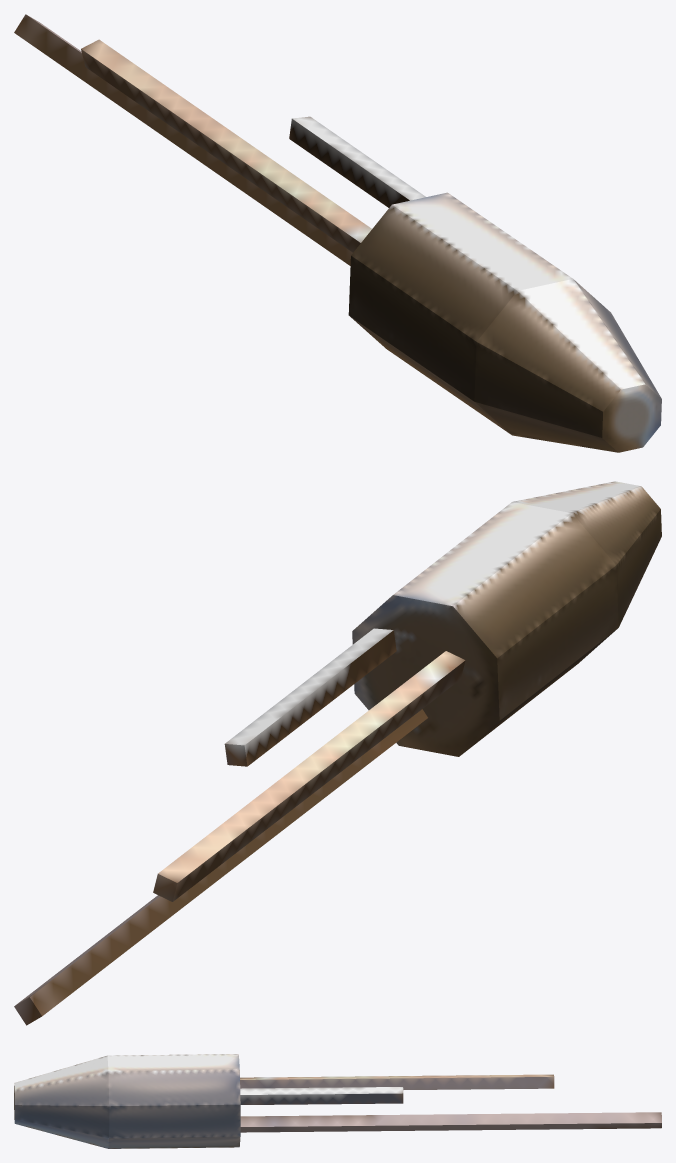
The picture shows the model from 3 angles, top to bottom: view 1: azimuth 30°, elevation 25°; view 2: azimuth 150°, elevation 25°; view 3: azimuth 270°, elevation 25°; orthographic projection. The views are drawn at different scales.
Parts seen in each view (by area): view 1: Bala_Cylinder.003, Estela_3_Cube.008, Estela_1_Cube.006, Estela_2_Cube.007; view 2: Bala_Cylinder.003, Estela_3_Cube.008, Estela_1_Cube.006, Estela_2_Cube.007; view 3: Bala_Cylinder.003, Estela_1_Cube.006, Estela_3_Cube.008, Estela_2_Cube.007.
Boxes of the visible parts, x1,y1,x2,y2 form: Bala_Cylinder.003: [348, 192, 661, 452]; Estela_3_Cube.008: [81, 39, 371, 252]; Estela_1_Cube.006: [14, 14, 352, 265]; Estela_2_Cube.007: [289, 116, 425, 207]; Bala_Cylinder.003: [352, 481, 661, 756]; Estela_3_Cube.008: [153, 651, 465, 901]; Estela_1_Cube.006: [14, 709, 427, 1025]; Estela_2_Cube.007: [224, 628, 396, 766]; Bala_Cylinder.003: [14, 1054, 240, 1148]; Estela_1_Cube.006: [240, 1112, 661, 1132]; Estela_3_Cube.008: [240, 1074, 554, 1089]; Estela_2_Cube.007: [240, 1087, 403, 1104].
Size of what is drawn, in the model's own units: 0.2741 by 0.2633 by 1.94.
